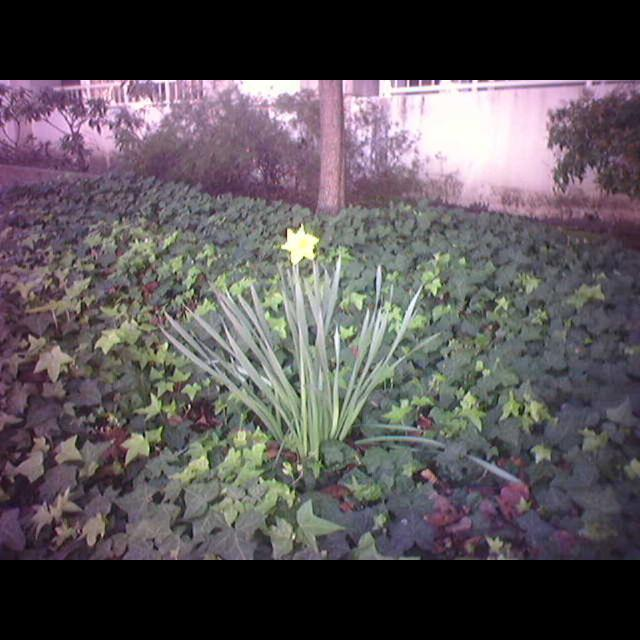Flower: (282, 224, 320, 266)
